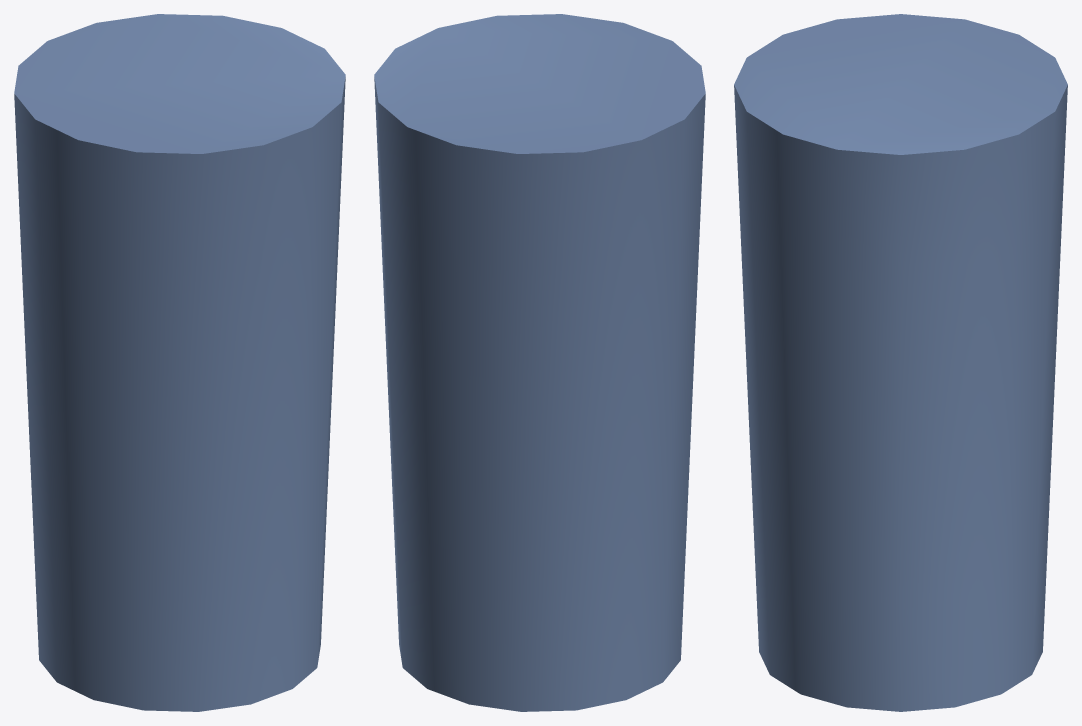
The model's file is sam_thigh.glb.
3 views of the same model, side by side, from view 1: azimuth 30°, elevation 25°; view 2: azimuth 150°, elevation 25°; view 3: azimuth 270°, elevation 25° (orthographic).
Visible parts, largest first — view 1: sam_thigh; view 2: sam_thigh; view 3: sam_thigh.
Boxes of the visible parts, left/top/right/bottom form: sam_thigh: left=14, top=14, right=345, bottom=711; sam_thigh: left=374, top=14, right=705, bottom=711; sam_thigh: left=734, top=14, right=1067, bottom=711.
Size of the model in its own units: 0.16 by 0.3 by 0.16.
